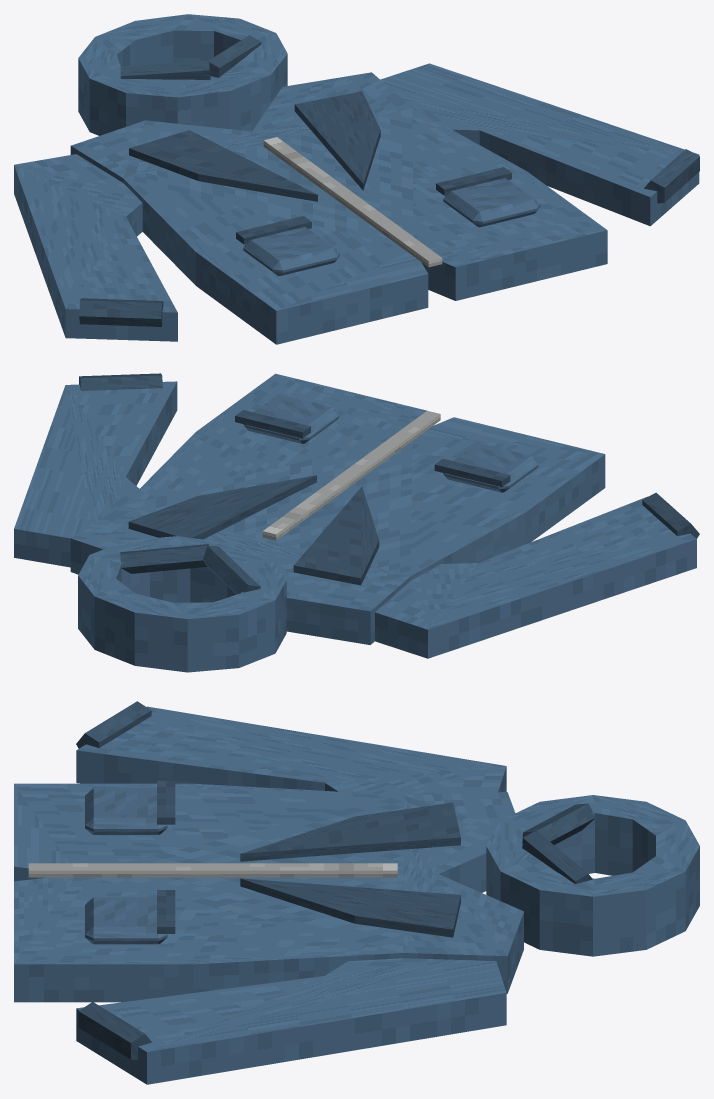
The model's file is jacket_light.glb.
The picture shows the model from 3 angles, top to bottom: view 1: azimuth 30°, elevation 25°; view 2: azimuth 150°, elevation 25°; view 3: azimuth 270°, elevation 25°; orthographic projection. The views are drawn at different scales.
Visible parts, largest first — view 1: block_coat body, block_sleeve (×2), block_hood, block_lapel (×2), block_patch pocket (×2), block_cuff 0 (×2), block_zipper track, block_pocket welt (×2), block_hood facing 0, block_hood facing 1; view 2: block_coat body, block_sleeve (×2), block_hood, block_lapel (×2), block_patch pocket (×2), block_zipper track, block_cuff 0 (×2), block_pocket welt (×2), block_hood facing 1, block_hood facing 0; view 3: block_coat body, block_sleeve (×2), block_hood, block_lapel (×2), block_patch pocket (×2), block_zipper track, block_cuff 0 (×2), block_pocket welt (×2), block_hood facing 1, block_hood facing 0.
Boxes of the visible parts, x1=… form: block_coat body: x1=70, y1=72, x2=607, y2=344; block_sleeve (×2): x1=14, y1=63, x2=699, y2=341; block_hood: x1=78, y1=14, x2=287, y2=135; block_lapel (×2): x1=129, y1=91, x2=380, y2=201; block_patch pocket (×2): x1=243, y1=178, x2=540, y2=275; block_cuff 0 (×2): x1=79, y1=149, x2=699, y2=326; block_zipper track: x1=263, y1=137, x2=442, y2=267; block_pocket welt (×2): x1=236, y1=167, x2=511, y2=244; block_hood facing 0: x1=120, y1=60, x2=210, y2=79; block_hood facing 1: x1=207, y1=35, x2=261, y2=77; block_coat body: x1=70, y1=373, x2=605, y2=644; block_sleeve (×2): x1=14, y1=381, x2=696, y2=658; block_hood: x1=78, y1=536, x2=286, y2=672; block_lapel (×2): x1=128, y1=475, x2=379, y2=585; block_patch pocket (×2): x1=243, y1=394, x2=538, y2=492; block_zipper track: x1=262, y1=410, x2=440, y2=540; block_cuff 0 (×2): x1=79, y1=373, x2=699, y2=538; block_pocket welt (×2): x1=235, y1=410, x2=510, y2=486; block_hood facing 1: x1=120, y1=544, x2=208, y2=573; block_hood facing 0: x1=202, y1=545, x2=260, y2=594; block_coat body: x1=14, y1=783, x2=523, y2=1002; block_sleeve (×2): x1=76, y1=706, x2=506, y2=1084; block_hood: x1=486, y1=795, x2=699, y2=956; block_lapel (×2): x1=240, y1=802, x2=460, y2=937; block_patch pocket (×2): x1=85, y1=788, x2=167, y2=944; block_zipper track: x1=28, y1=863, x2=397, y2=877; block_cuff 0 (×2): x1=76, y1=701, x2=151, y2=1059; block_pocket welt (×2): x1=157, y1=780, x2=175, y2=933; block_hood facing 1: x1=522, y1=830, x2=592, y2=884; block_hood facing 0: x1=522, y1=803, x2=595, y2=844.
Size of the model in its own units: 0.6224 by 0.0682 by 0.5219.
Materials: 1 (1 with a texture image).
